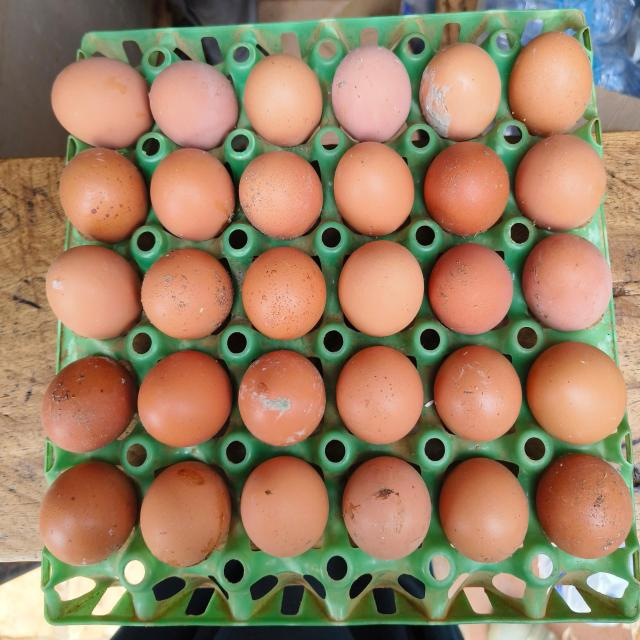Eggs: (35, 468, 140, 571), (340, 452, 436, 564), (529, 344, 631, 446), (542, 458, 636, 564), (44, 44, 148, 138), (238, 464, 332, 566), (144, 464, 234, 570), (40, 360, 134, 456), (432, 353, 526, 449), (139, 357, 231, 453), (41, 245, 138, 336), (238, 358, 332, 451), (445, 466, 534, 564), (522, 238, 616, 330), (510, 32, 598, 130), (335, 244, 426, 336), (48, 155, 148, 238), (237, 146, 325, 240), (144, 250, 238, 338), (424, 39, 506, 139), (434, 243, 515, 344), (519, 143, 616, 225), (429, 142, 510, 240), (338, 356, 428, 442), (332, 48, 418, 137), (160, 54, 240, 148), (337, 146, 418, 234), (243, 254, 325, 340), (248, 48, 318, 146), (152, 158, 232, 240)
